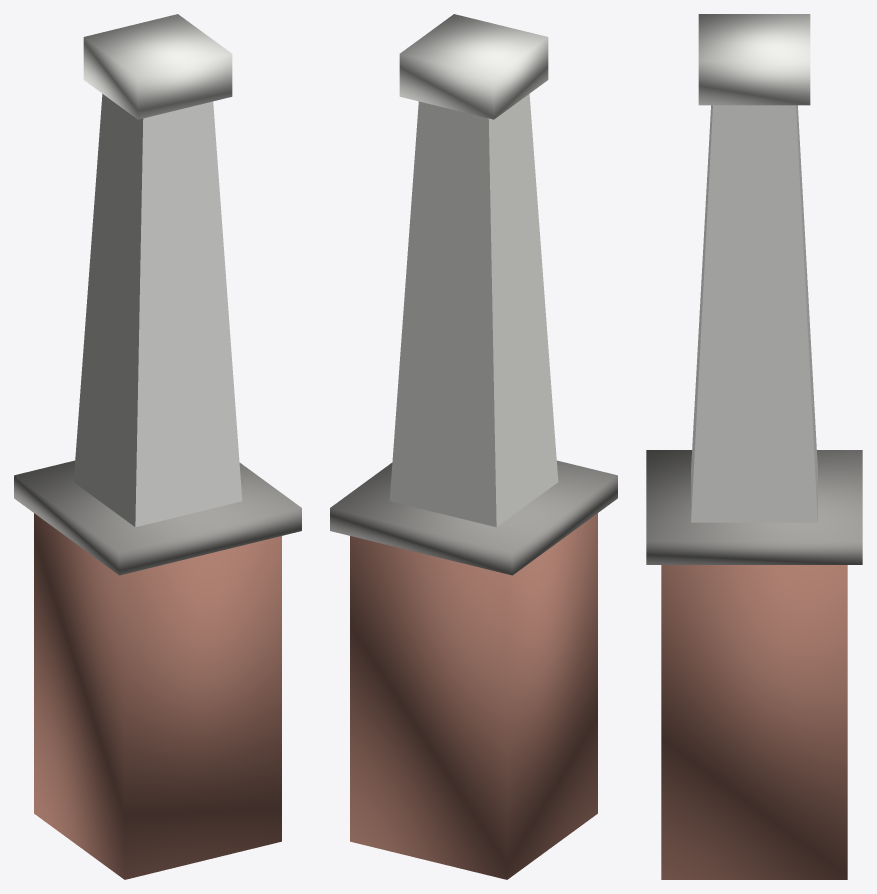
The model's file is hp_pier.glb.
The picture shows the model from 3 angles, left to right: view 1: azimuth 30°, elevation 25°; view 2: azimuth 150°, elevation 25°; view 3: azimuth 270°, elevation 25°; orthographic projection. The views are drawn at different scales.
Parts seen in each view (by area): view 1: hp_pier; view 2: hp_pier; view 3: hp_pier.
Boxes of the visible parts, box(x1,y1,x2,y2) form: hp_pier: box(14, 14, 301, 879); hp_pier: box(330, 14, 617, 879); hp_pier: box(646, 14, 862, 879).
Bounding box in the file's own units: 0.58 × 2.38 × 0.58.
